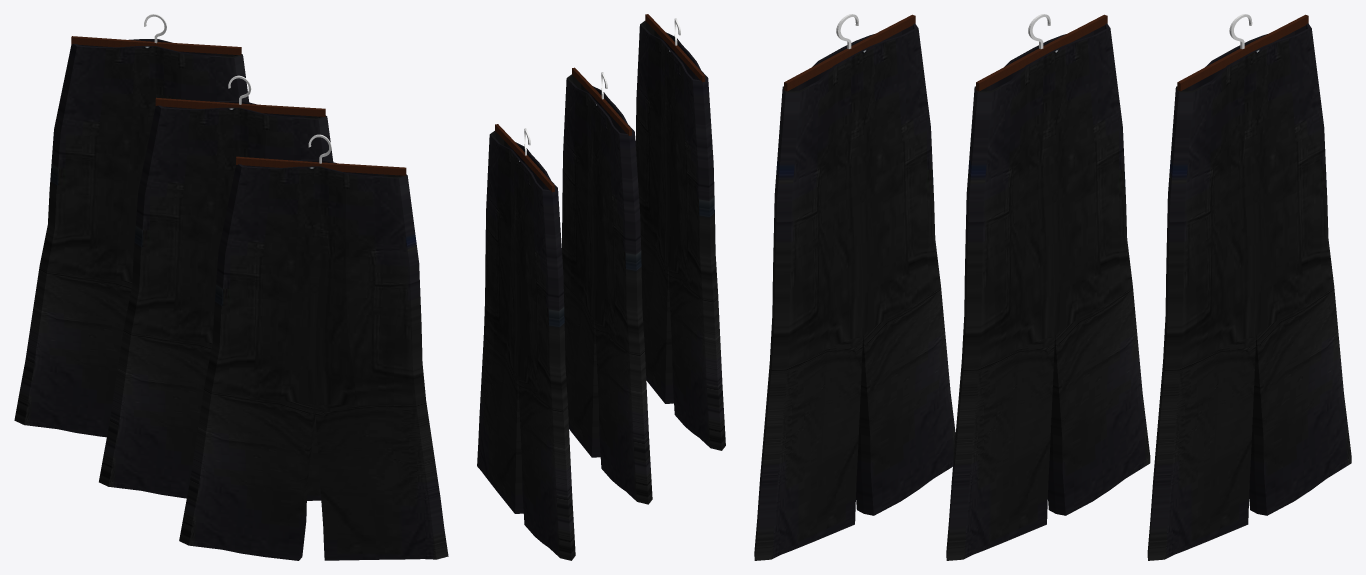
File: cargoblack.glb
3 views of the same model, side by side, from view 1: azimuth 30°, elevation 25°; view 2: azimuth 150°, elevation 25°; view 3: azimuth 270°, elevation 25° (orthographic). The views are drawn at different scales.
Visible parts, largest first — view 1: Plane.042; view 2: Plane.042; view 3: Plane.042.
Boxes of the visible parts, bbox=[...] form: Plane.042: bbox=[14, 14, 448, 560]; Plane.042: bbox=[477, 14, 725, 560]; Plane.042: bbox=[754, 14, 1351, 560].
Size of the model in its own units: 0.2447 by 0.5377 by 0.5754.
Materials: 3 (3 with a texture image).
